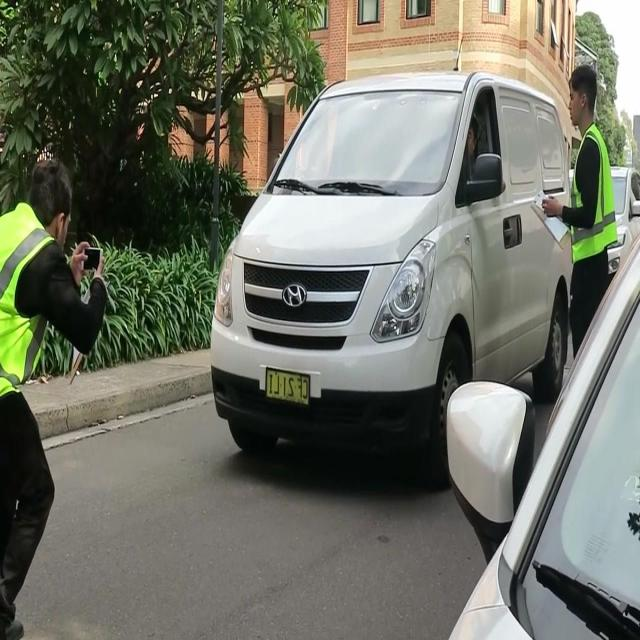Reflective-Jacket: (1, 199, 58, 397), (558, 122, 624, 266)
